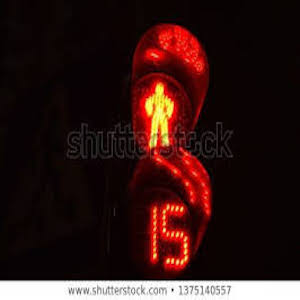red: (140, 75, 179, 149)
